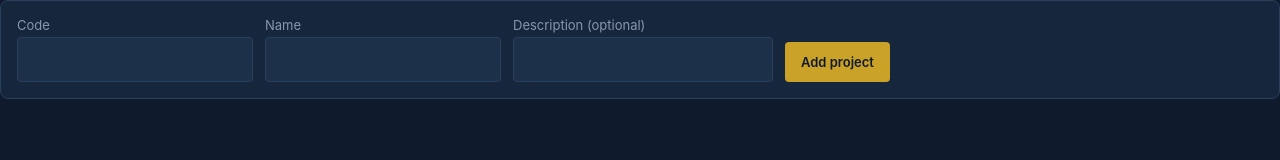
CreateProjectForm › shows an error message when the action fails
This screenshot has width=1280, height=160.
Type "PRJ-001" into the field labelled "Code" at (135, 60), box top-left (17, 37), bottom-right (253, 82)
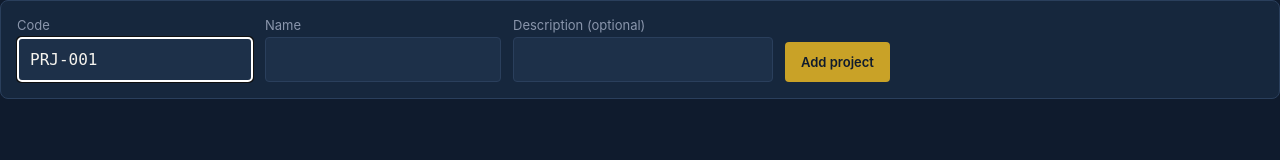
Type "Riverside Towers" into the field labelled "Name" at (383, 60), box top-left (265, 37), bottom-right (501, 82)
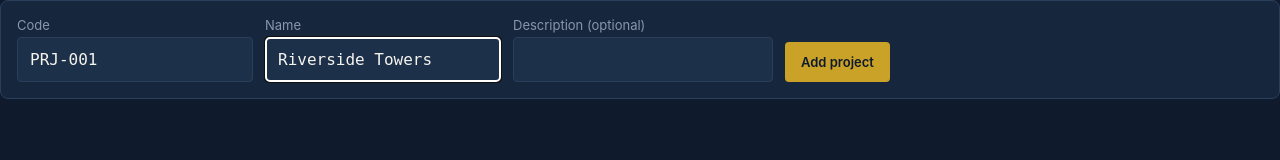
Click the button "Add project" at (837, 62), box top-left (785, 42), bottom-right (890, 82)
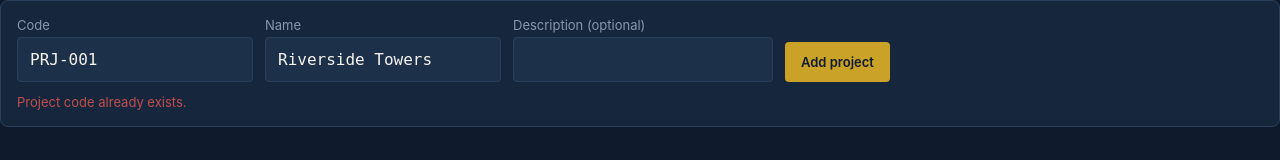
Expected: the text "Project code already exists." is shown, top-left (17, 94), bottom-right (186, 110)
